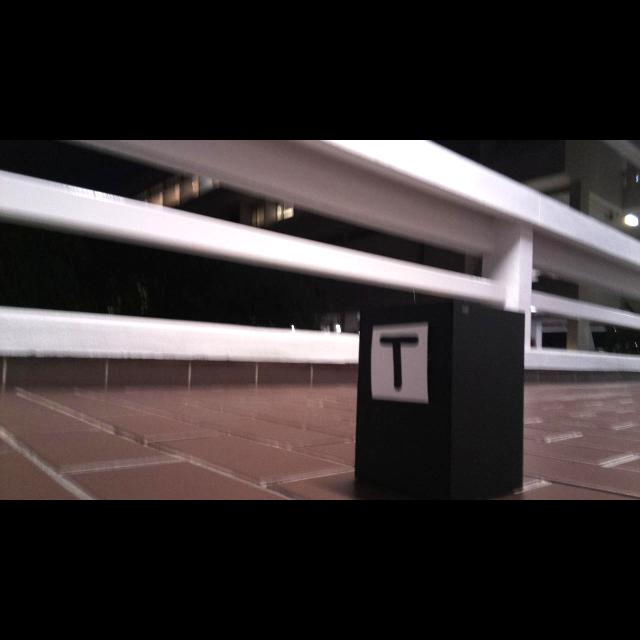T: (379, 335, 419, 393)
